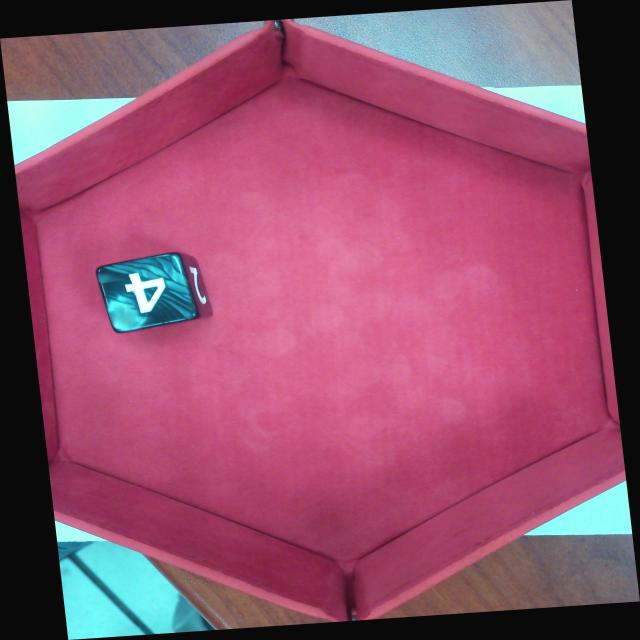dice: (93, 250, 203, 336)
